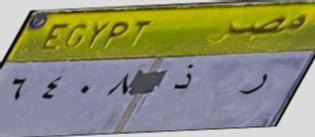0: (75, 78, 98, 103)
4: (37, 68, 68, 110)
6: (5, 67, 30, 106)
8: (106, 67, 135, 102)
raa: (230, 67, 280, 102)
zaal: (173, 60, 200, 98)
